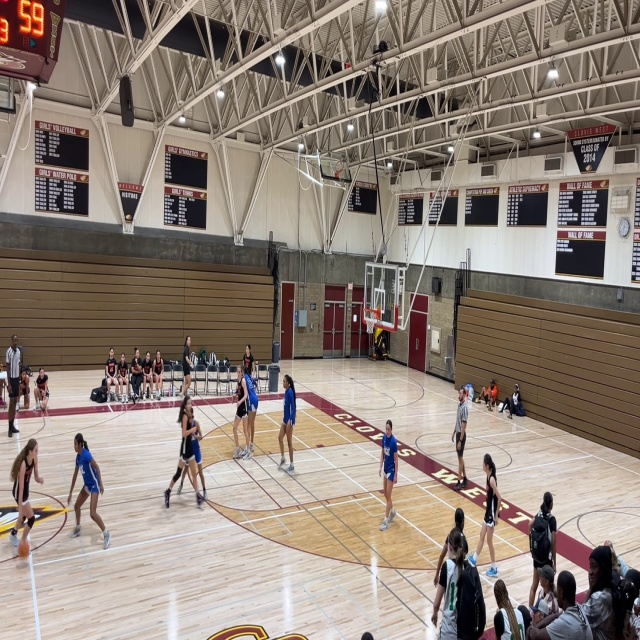Basketball: (17, 540, 30, 557)
